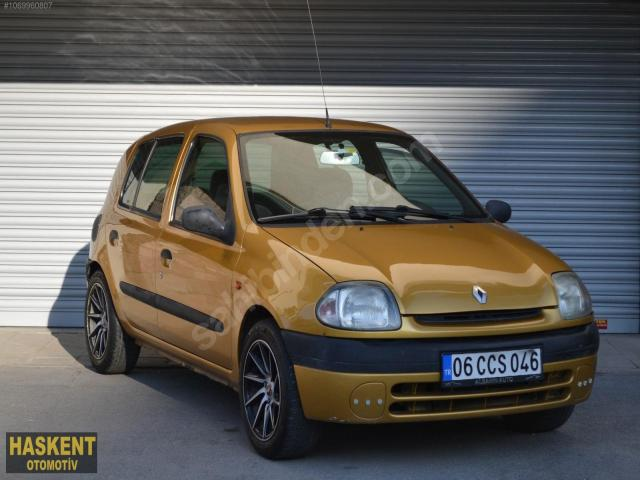plaka: (442, 348, 541, 384)
